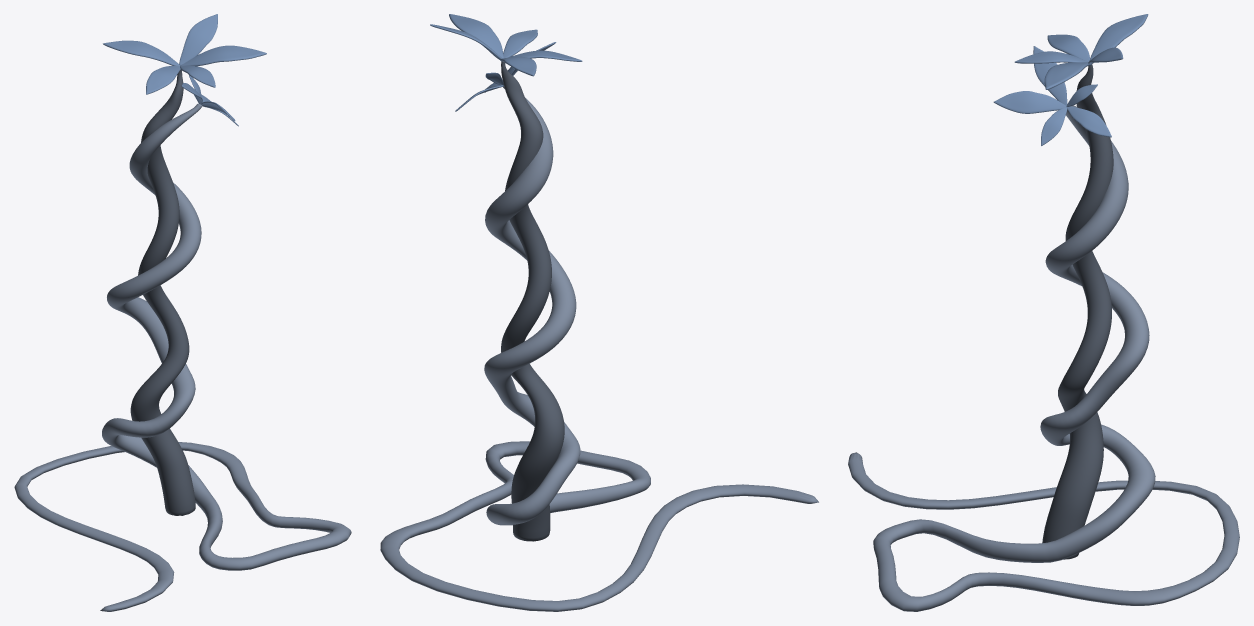
File: plerb-2.fbx
The picture shows the model from 3 angles, left to right: view 1: azimuth 30°, elevation 25°; view 2: azimuth 150°, elevation 25°; view 3: azimuth 270°, elevation 25°; orthographic projection. The views are drawn at different scales.
Parts seen in each view (by area): view 1: Cube.026; view 2: Cube.026; view 3: Cube.026.
Boxes of the visible parts, left/top/right/bottom form: Cube.026: left=14, top=14, right=351, bottom=611; Cube.026: left=380, top=14, right=818, bottom=611; Cube.026: left=848, top=14, right=1239, bottom=611.
Bounding box in the file's own units: 39.84 × 65.04 × 43.12.
